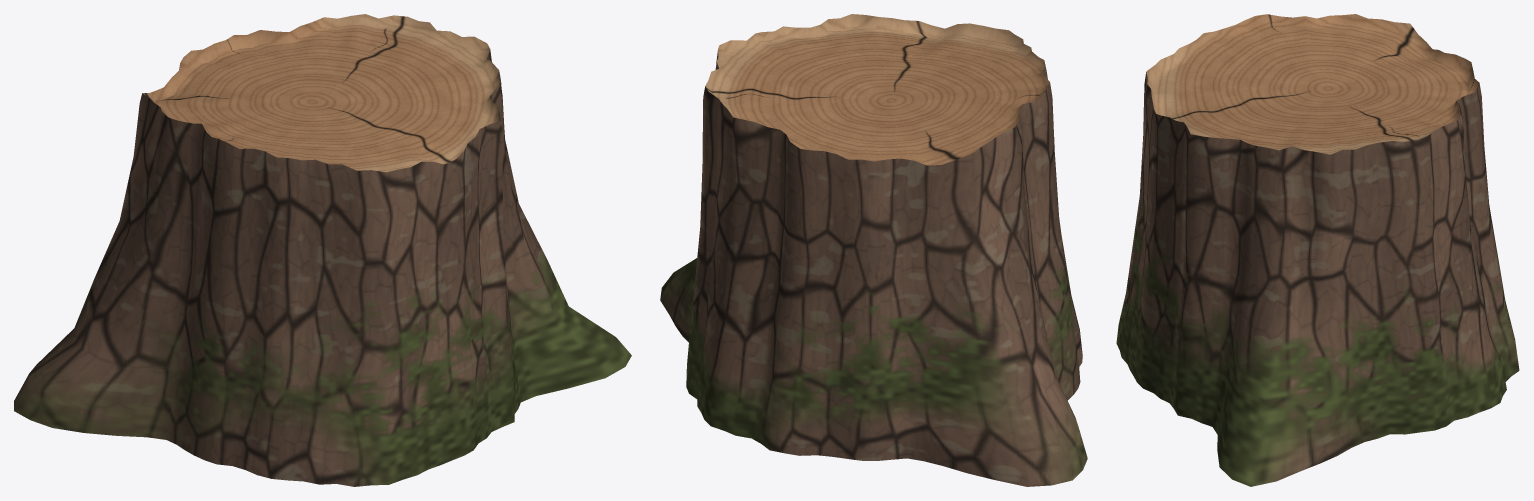
The model's file is stump.glb.
The picture shows the model from 3 angles, left to right: view 1: azimuth 30°, elevation 25°; view 2: azimuth 150°, elevation 25°; view 3: azimuth 270°, elevation 25°; orthographic projection. The views are drawn at different scales.
Parts seen in each view (by area): view 1: Pine stump; view 2: Pine stump; view 3: Pine stump.
Part boxes in pixels (bbox=[...]): Pine stump: bbox=[14, 14, 631, 486]; Pine stump: bbox=[660, 14, 1087, 486]; Pine stump: bbox=[1116, 14, 1519, 486].
Size of the model in its own units: 0.7887 by 0.4469 by 0.566.
Materials: 1 (1 with a texture image).
